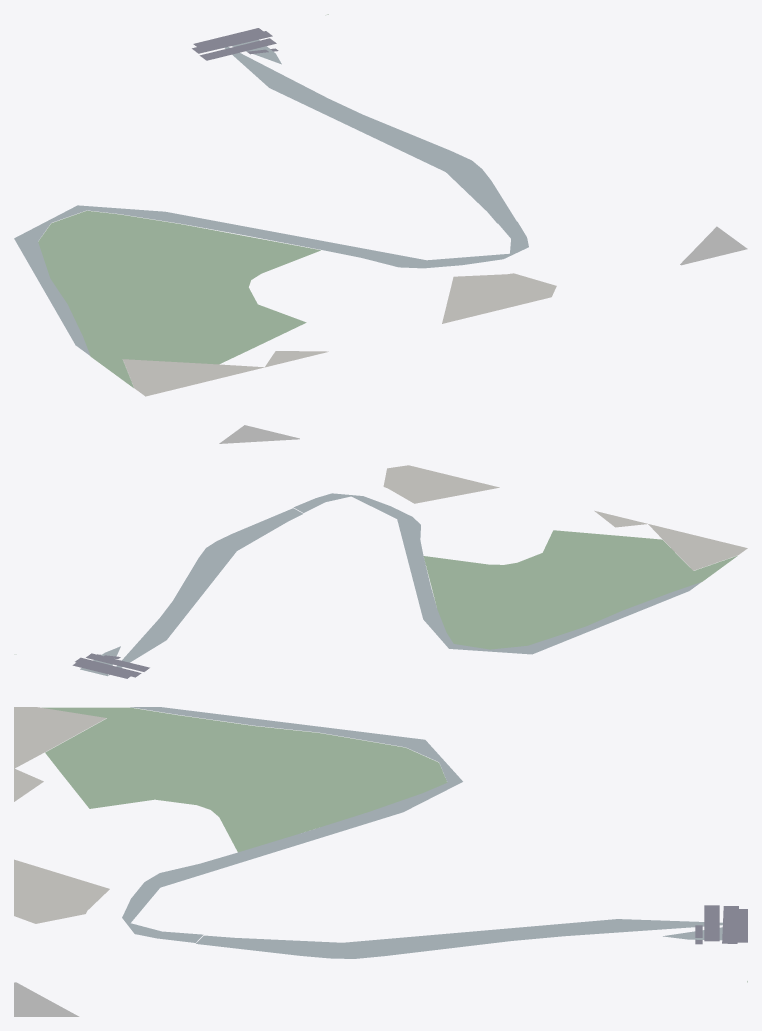
Rendered from 100_89_mid.glb.
The picture shows the model from 3 angles, top to bottom: view 1: azimuth 30°, elevation 25°; view 2: azimuth 150°, elevation 25°; view 3: azimuth 270°, elevation 25°; orthographic projection. The views are drawn at different scales.
Bounding box in the file's own units: 500 × 3 × 500.
